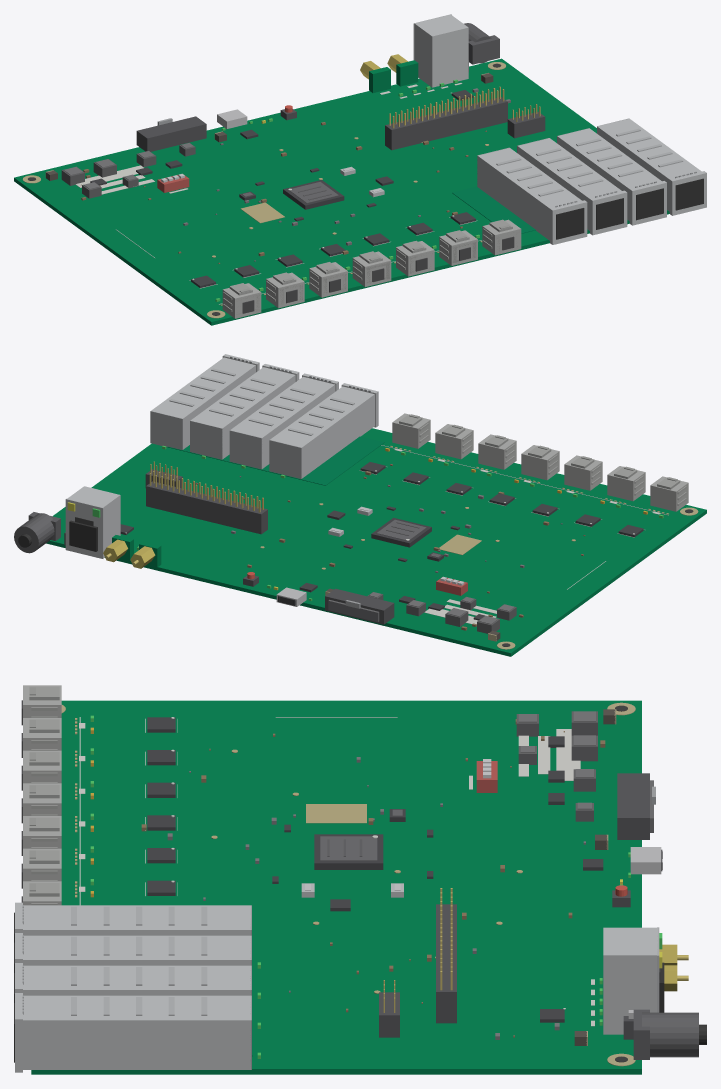
Rendered from EVB-LAN9692-LM.glb.
The picture shows the model from 3 angles, top to bottom: view 1: azimuth 30°, elevation 25°; view 2: azimuth 150°, elevation 25°; view 3: azimuth 270°, elevation 25°; orthographic projection. The views are drawn at different scales.
Visible parts, largest first — view 1: p000, p270, p311, p188, p207, p186, p249, p228, p300, p495, p018, p162 (+23 smaller); view 2: p000, p311, p188, p228, p186, p249, p207, p495, p270, p271, p300, p253 (+19 smaller); view 3: p000, p252, p249, p228, p186, p207, p270, p282, p311, p300, p210, p189 (+15 smaller).
Boxes of the visible parts, left/top/right/bottom form: p000: left=14, top=58, right=669, bottom=325; p270: left=414, top=15, right=468, bottom=87; p311: left=385, top=97, right=507, bottom=150; p188: left=477, top=155, right=554, bottom=242; p207: left=517, top=138, right=621, bottom=202; p186: left=479, top=148, right=584, bottom=212; p249: left=597, top=119, right=700, bottom=183; p228: left=557, top=128, right=661, bottom=189; p300: left=136, top=116, right=206, bottom=151; p495: left=452, top=186, right=535, bottom=233; p018: left=222, top=283, right=261, bottom=318; p162: left=482, top=219, right=521, bottom=255; p000: left=46, top=428, right=706, bottom=656; p311: left=146, top=481, right=267, bottom=534; p188: left=301, top=395, right=374, bottom=478; p228: left=191, top=367, right=295, bottom=429; p186: left=270, top=386, right=374, bottom=448; p249: left=151, top=357, right=255, bottom=418; p207: left=230, top=377, right=334, bottom=438; p495: left=167, top=436, right=384, bottom=485; p270: left=67, top=486, right=120, bottom=557; p271: left=65, top=498, right=103, bottom=558; p300: left=325, top=588, right=394, bottom=624; p253: left=150, top=411, right=182, bottom=449; p000: left=31, top=700, right=641, bottom=1074; p252: left=23, top=1019, right=250, bottom=1069; p249: left=23, top=995, right=250, bottom=1021; p228: left=23, top=965, right=250, bottom=991; p186: left=23, top=905, right=250, bottom=931; p207: left=23, top=935, right=250, bottom=961; p270: left=603, top=927, right=657, bottom=1034; p282: left=642, top=1012, right=698, bottom=1057; p311: left=436, top=904, right=456, bottom=1023; p300: left=617, top=773, right=649, bottom=839; p210: left=23, top=959, right=250, bottom=965; p189: left=23, top=929, right=250, bottom=935.
Bounding box in the file's own units: 215 × 23.03 × 170.
